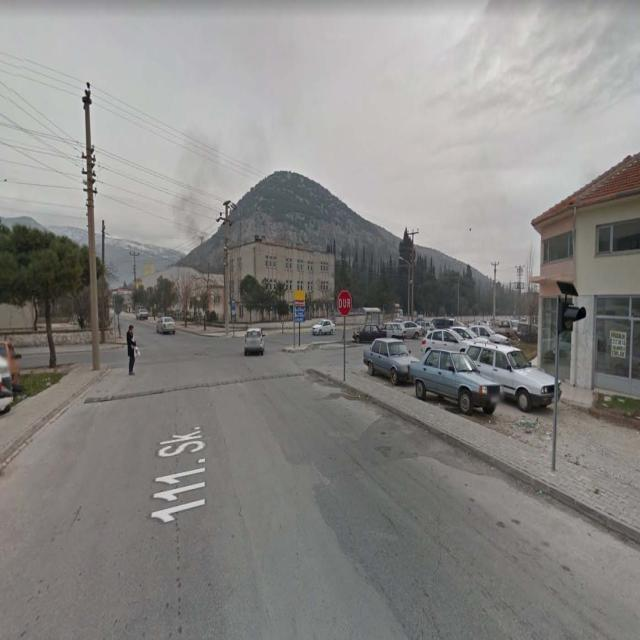dur: (338, 291, 352, 315)
